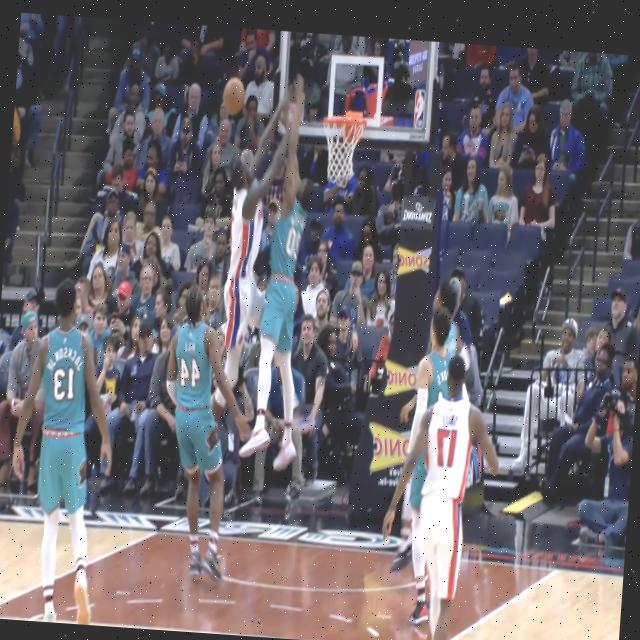foul: (208, 37, 319, 479)
no foul: (405, 305, 496, 640), (152, 278, 245, 589)
